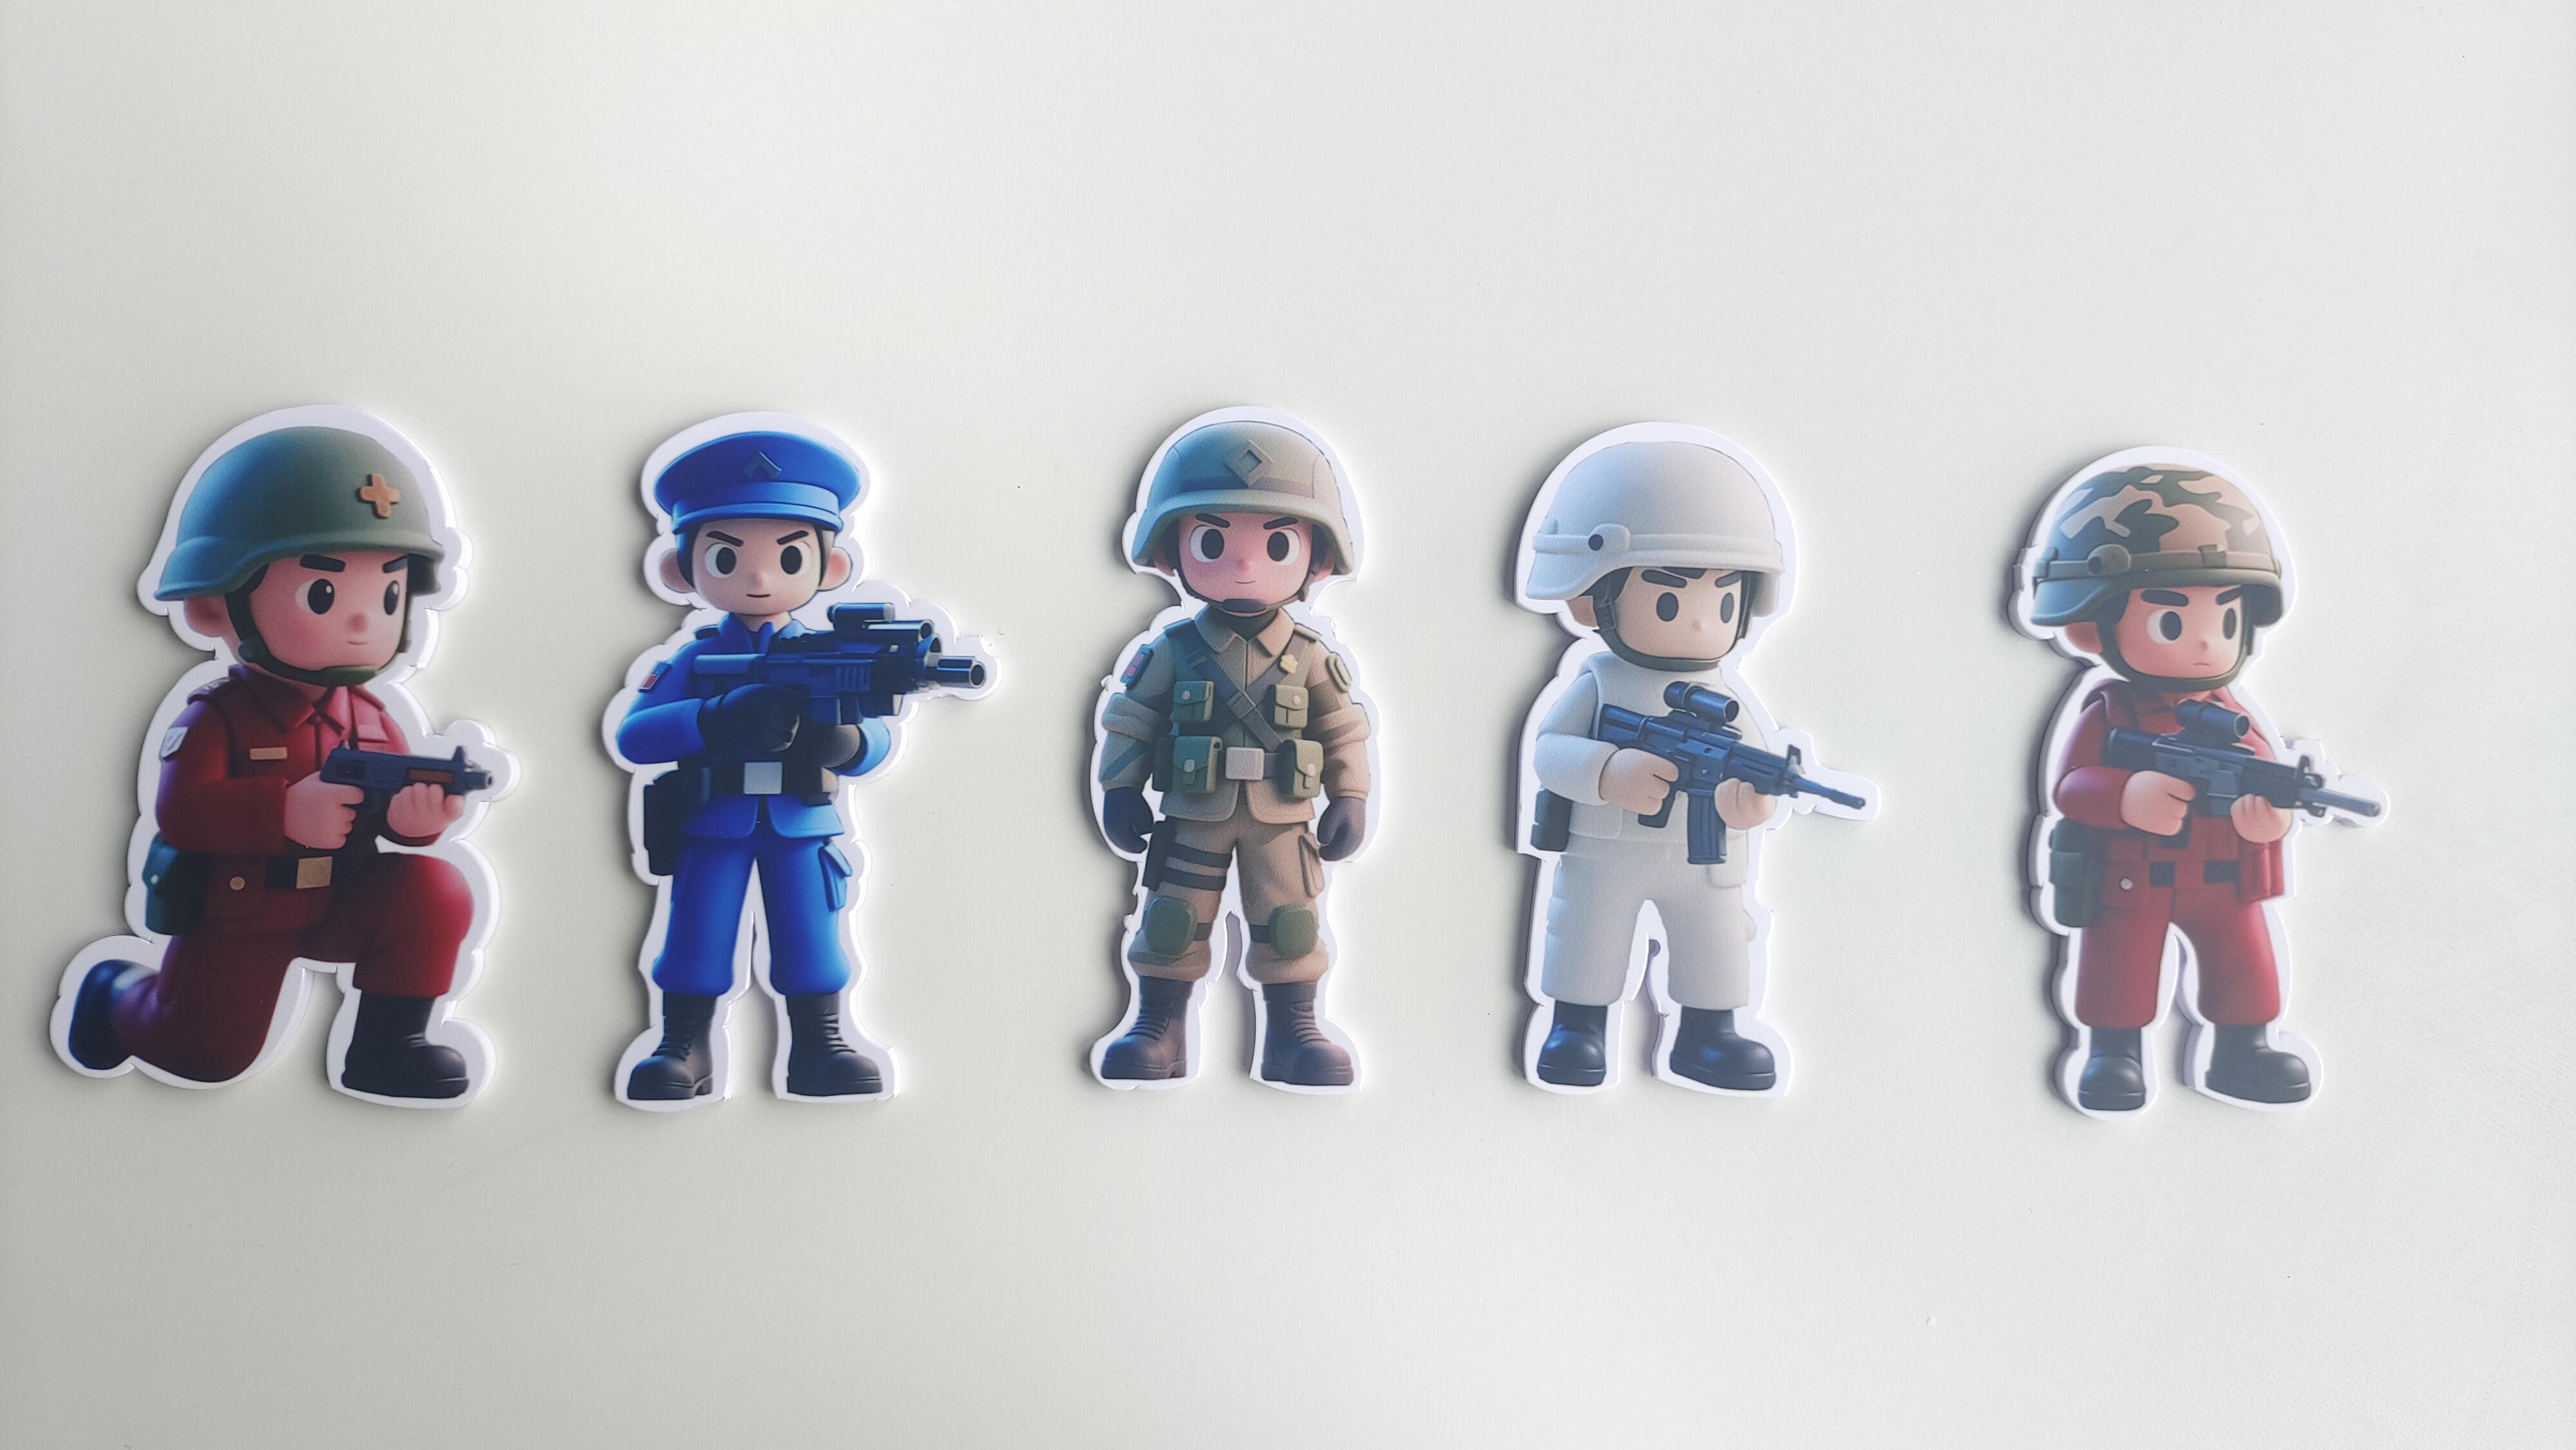enemy1: (37, 686, 510, 1116), (2026, 683, 2351, 1119)
enemy2: (587, 612, 938, 1123)
friend: (1070, 598, 1376, 1096)
hostage: (1491, 658, 1813, 1100)
